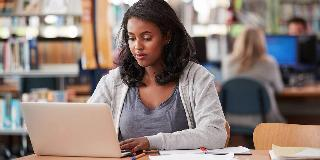person - v3 P: (88, 0, 226, 150), (222, 28, 286, 122), (288, 18, 306, 35)
